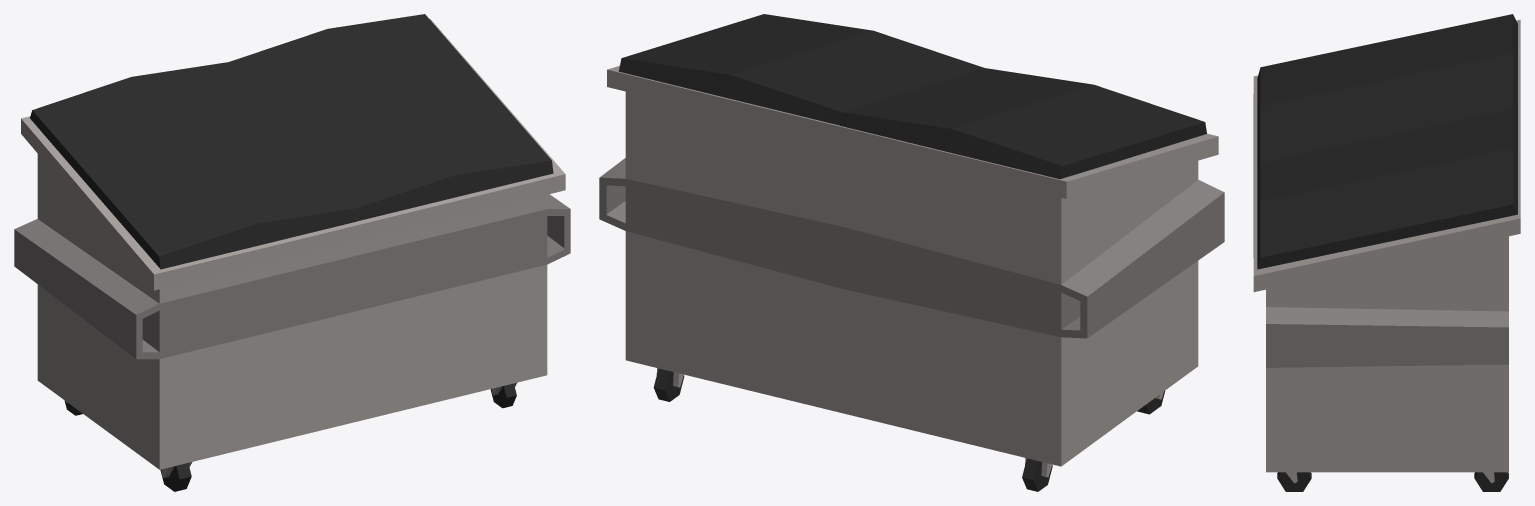
File: dumpster.glb
The picture shows the model from 3 angles, left to right: view 1: azimuth 30°, elevation 25°; view 2: azimuth 150°, elevation 25°; view 3: azimuth 270°, elevation 25°; orthographic projection. The views are drawn at different scales.
Parts seen in each view (by area): view 1: dumpster; view 2: dumpster; view 3: dumpster.
Part boxes in pixels (x1=…): dumpster: x1=14, y1=14, x2=570, y2=491; dumpster: x1=599, y1=14, x2=1224, y2=491; dumpster: x1=1253, y1=14, x2=1520, y2=491.
Size of the model in its own units: 2.05 by 1.42 by 1.1.
Materials: 1 (1 with a texture image).
